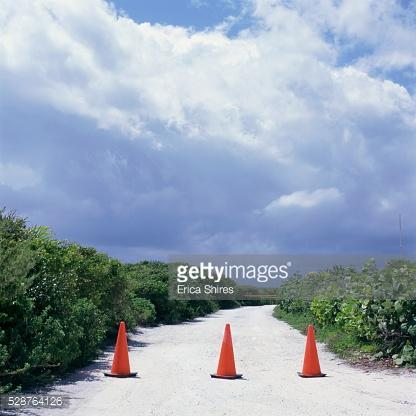Cone: (104, 320, 138, 378), (210, 323, 242, 379), (293, 323, 326, 377)
